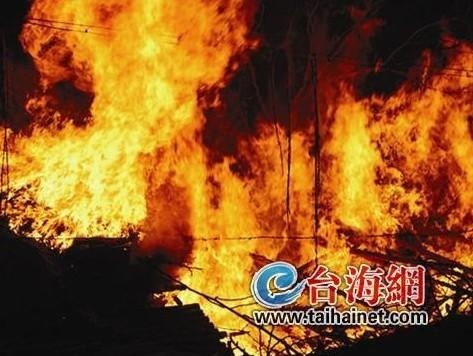fire: (61, 13, 473, 322)
